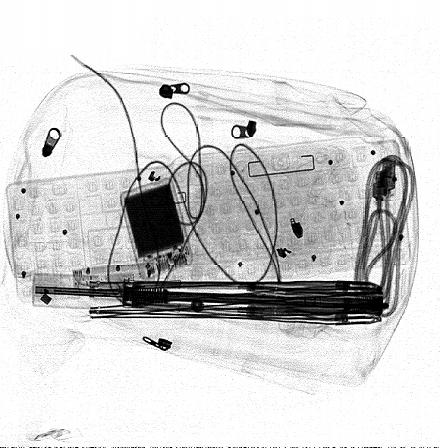Powerbank: (119, 176, 194, 282)
